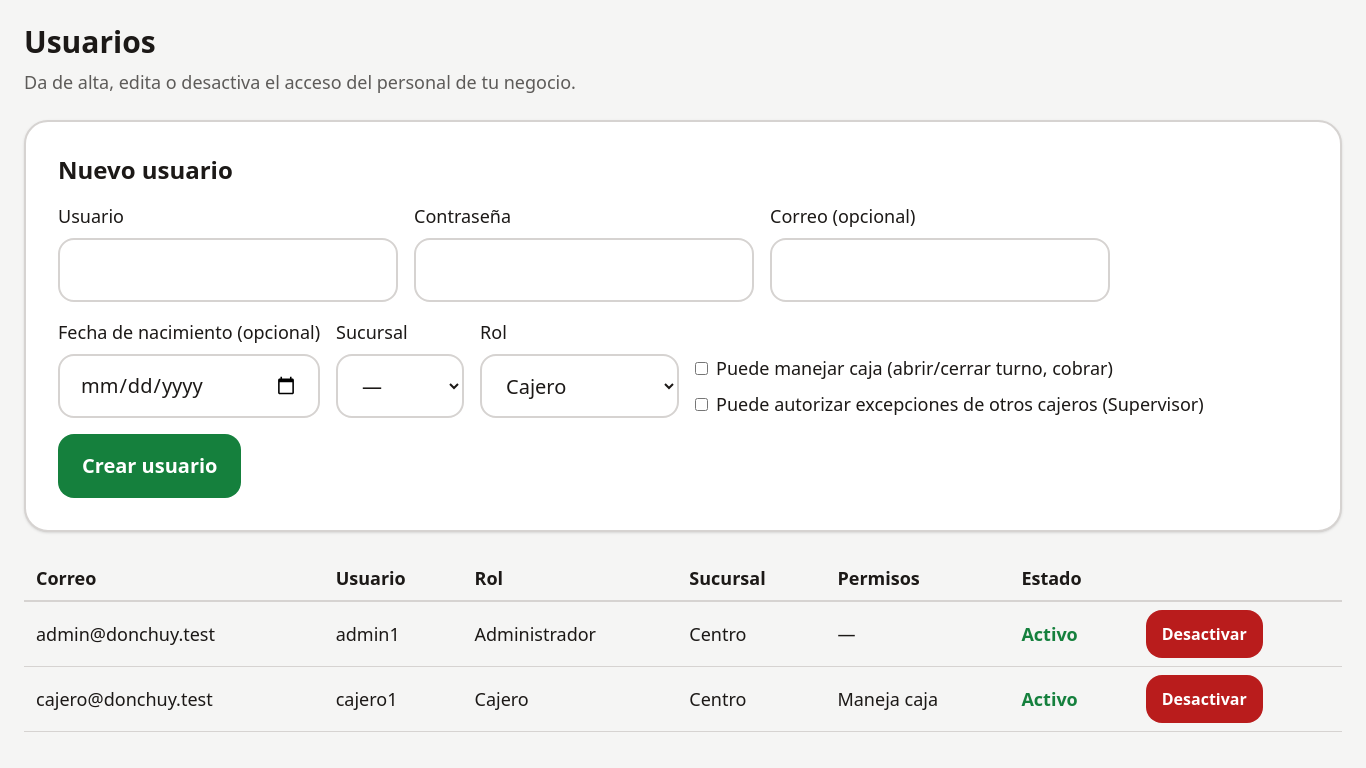
Test: UserManagementScreen › muestra un error legible cuando la creación falla (ej. usuario duplicado)
Expected: the text "admin@donchuy.test" is shown, [24,601,324,666]
Type "admin1" into the field labelled "Usuario" at point(228, 270), box [58,238,398,302]
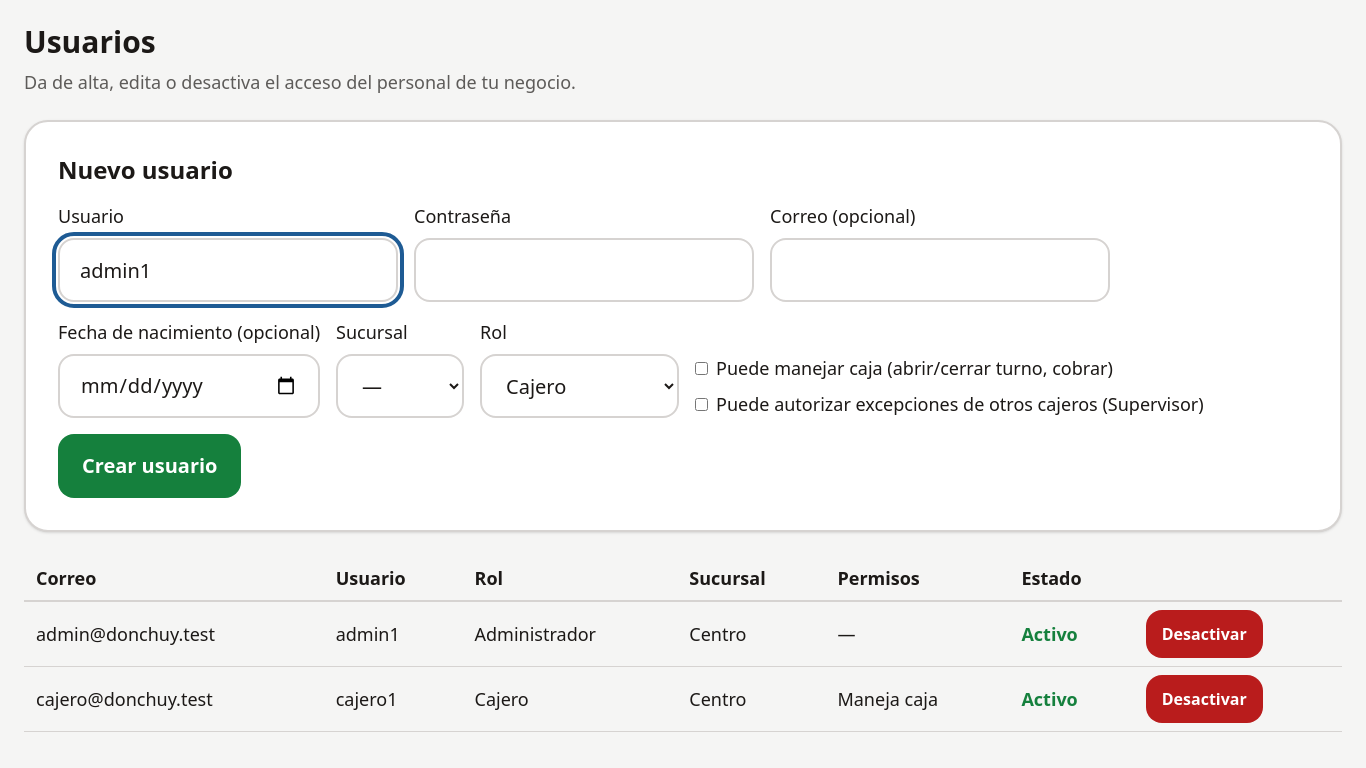
Type "ClaveSegura2026!" into the password field labelled "Contraseña" at point(584, 270), box [414,238,754,302]
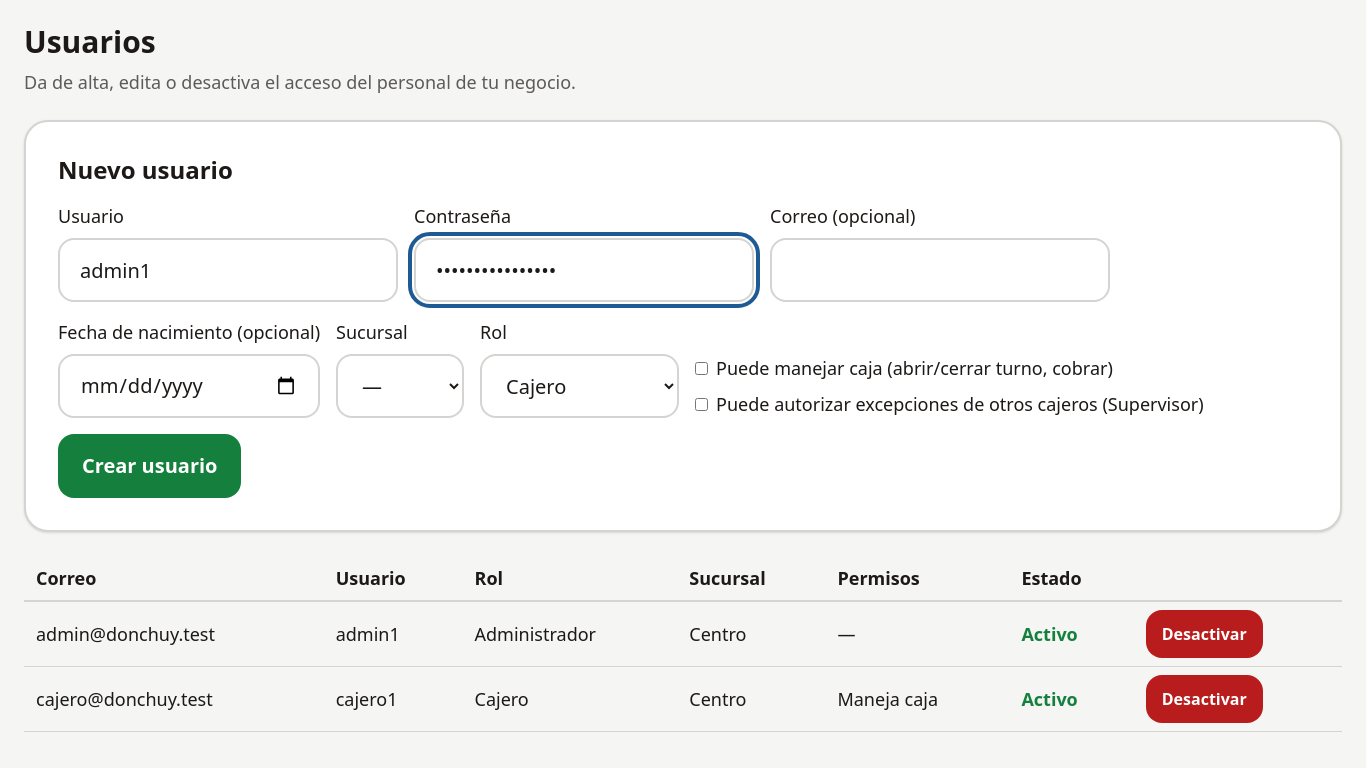
Select "Centro" in the dropdown labelled "Sucursal" at point(400, 386), box [336,354,464,418]
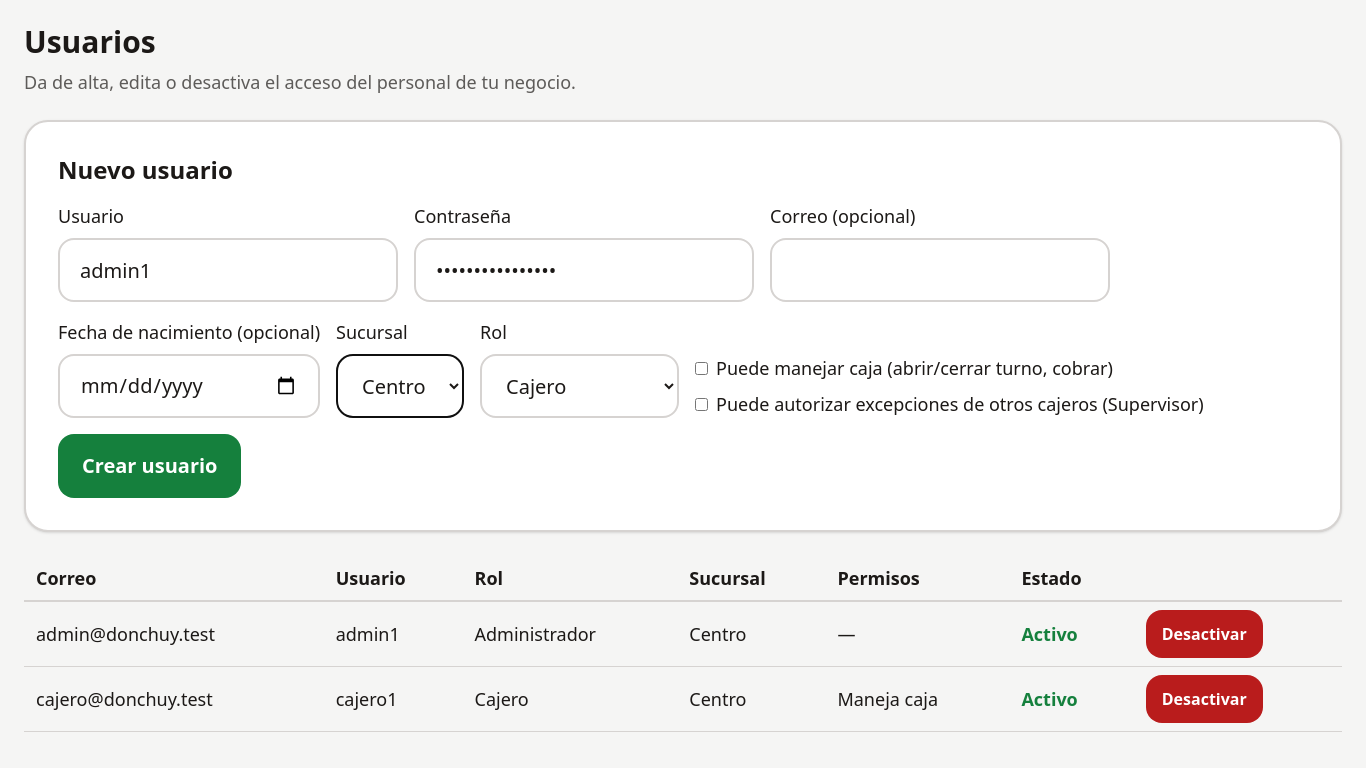
Click the button "Crear usuario" at point(150, 466), box [58,434,242,498]
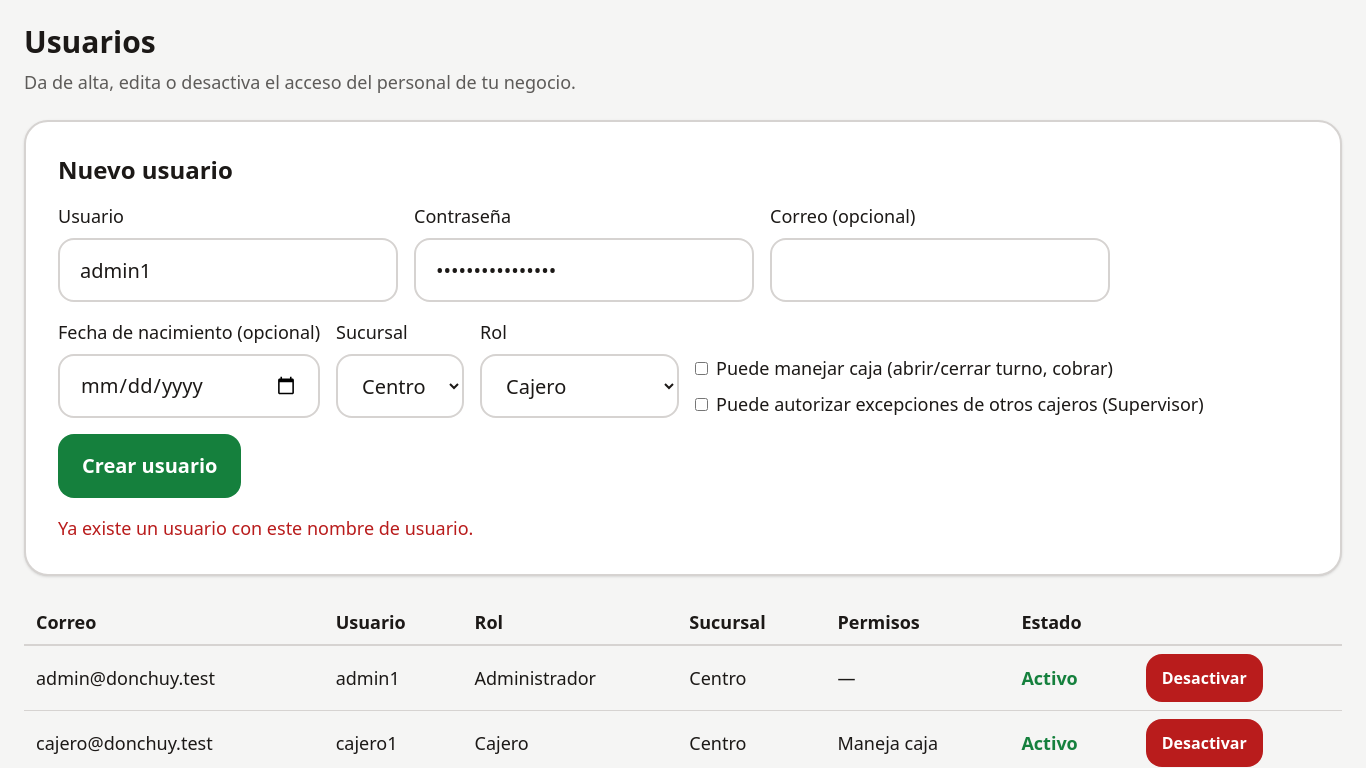
Result: the text "Ya existe un usuario con este nombre de usuario." is shown at [58,516,473,540]
